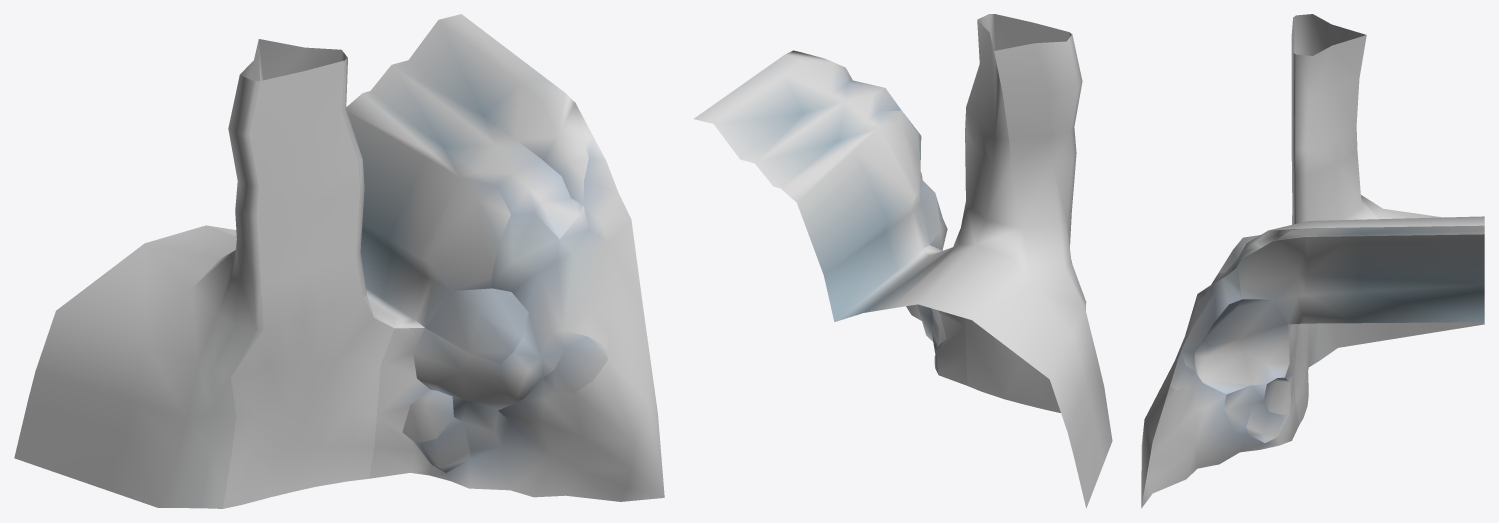
Rendered from Snow_BridgeTransitionA_lod2.glb.
3 renders of one model, left to right at view 1: azimuth 30°, elevation 25°; view 2: azimuth 150°, elevation 25°; view 3: azimuth 270°, elevation 25°, orthographic. The views are drawn at different scales.
Visible parts, largest first — view 1: MeshNode_0, MeshNode_1; view 2: MeshNode_0, MeshNode_1; view 3: MeshNode_0, MeshNode_1.
Boxes of the visible parts, x1,y1,x2,y2 form: MeshNode_0: (14, 14, 664, 508); MeshNode_1: (223, 60, 394, 508); MeshNode_0: (694, 14, 1112, 508); MeshNode_1: (964, 14, 1070, 412); MeshNode_0: (1141, 14, 1484, 508); MeshNode_1: (1291, 21, 1308, 425).
Size of the model in its own units: 105 by 96 by 82.68.
